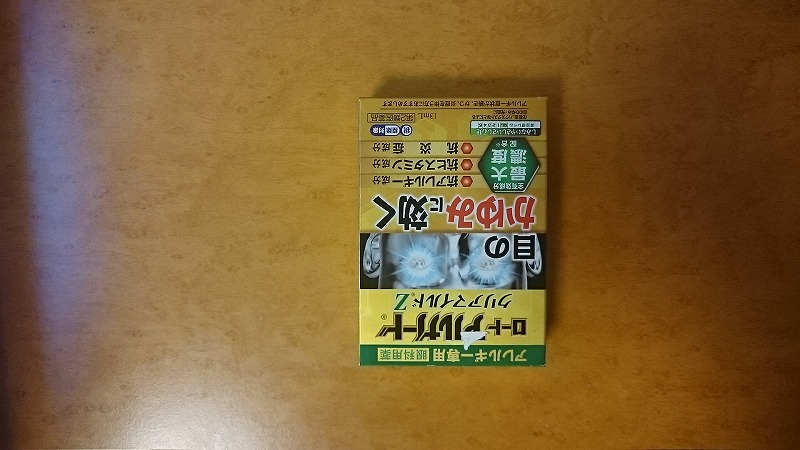C: (348, 89, 548, 379)
